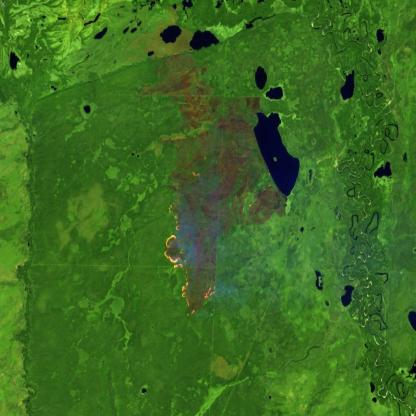fire: (162, 203, 198, 319)
